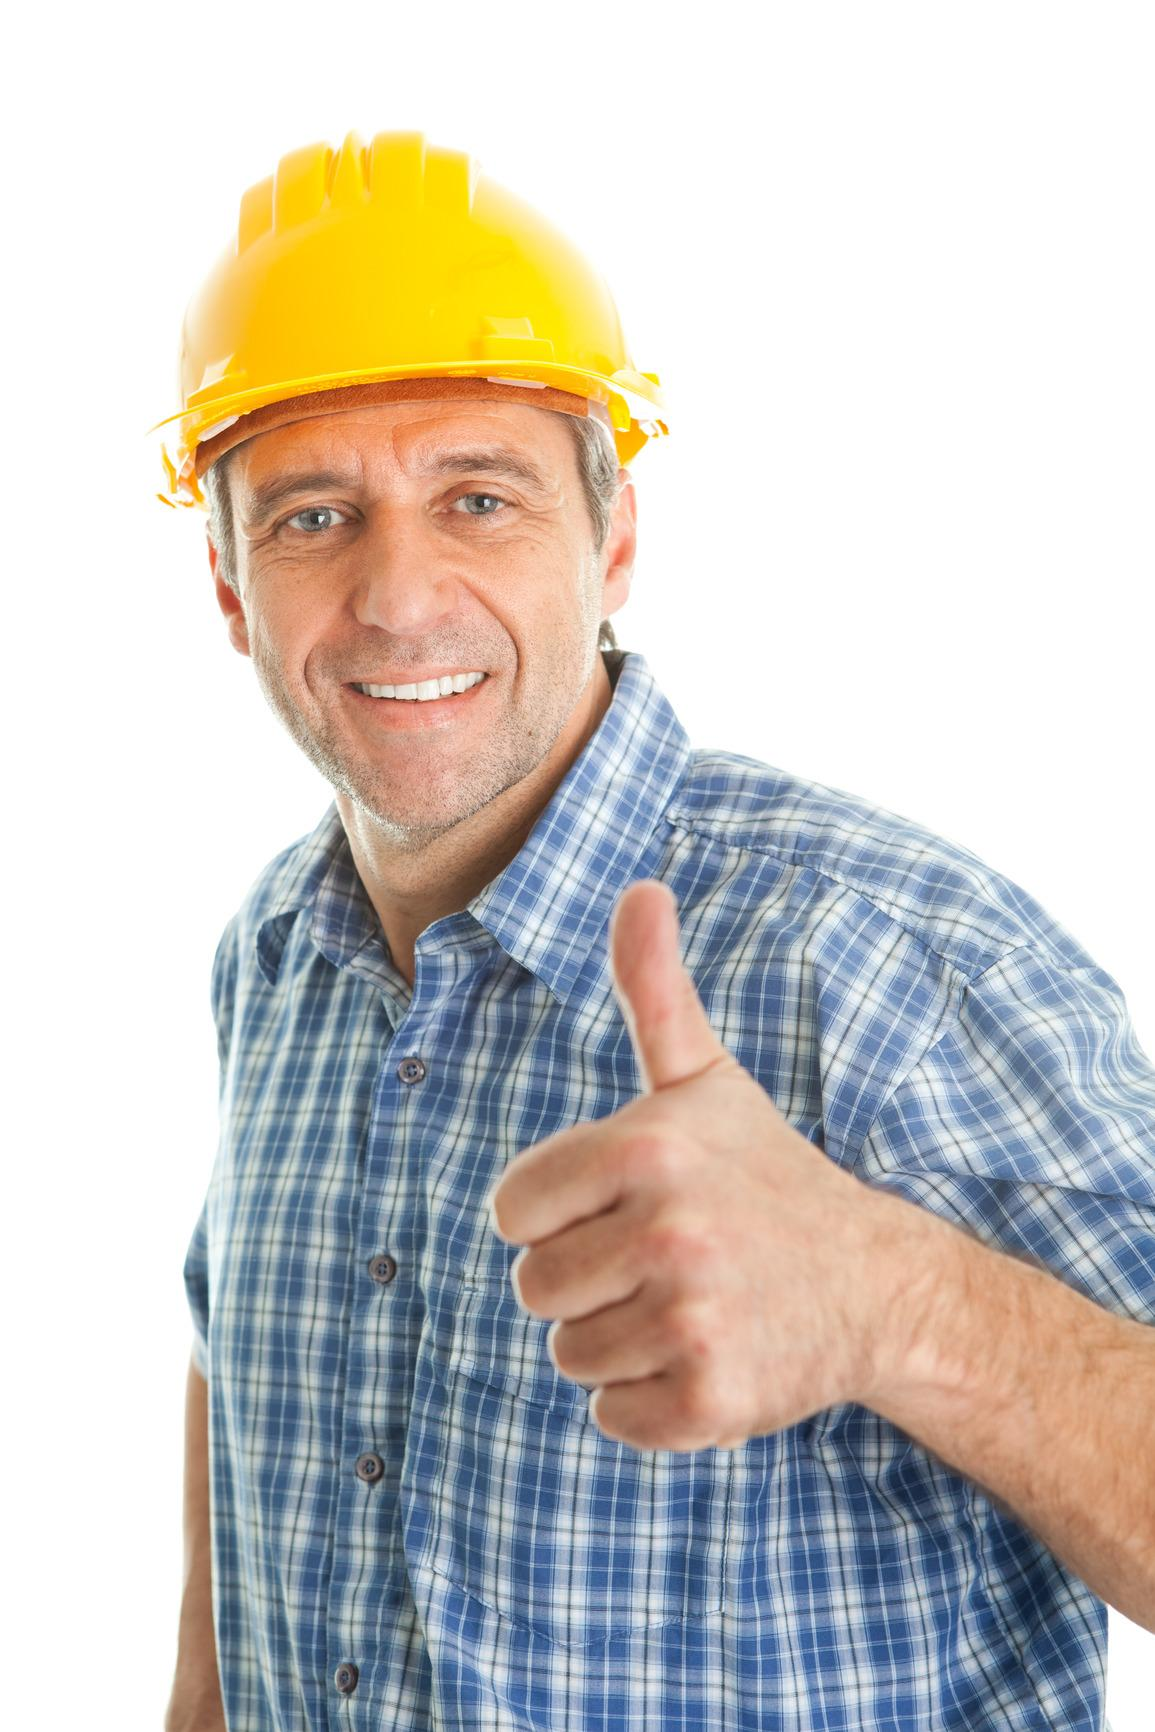helmet: (159, 139, 666, 461)
